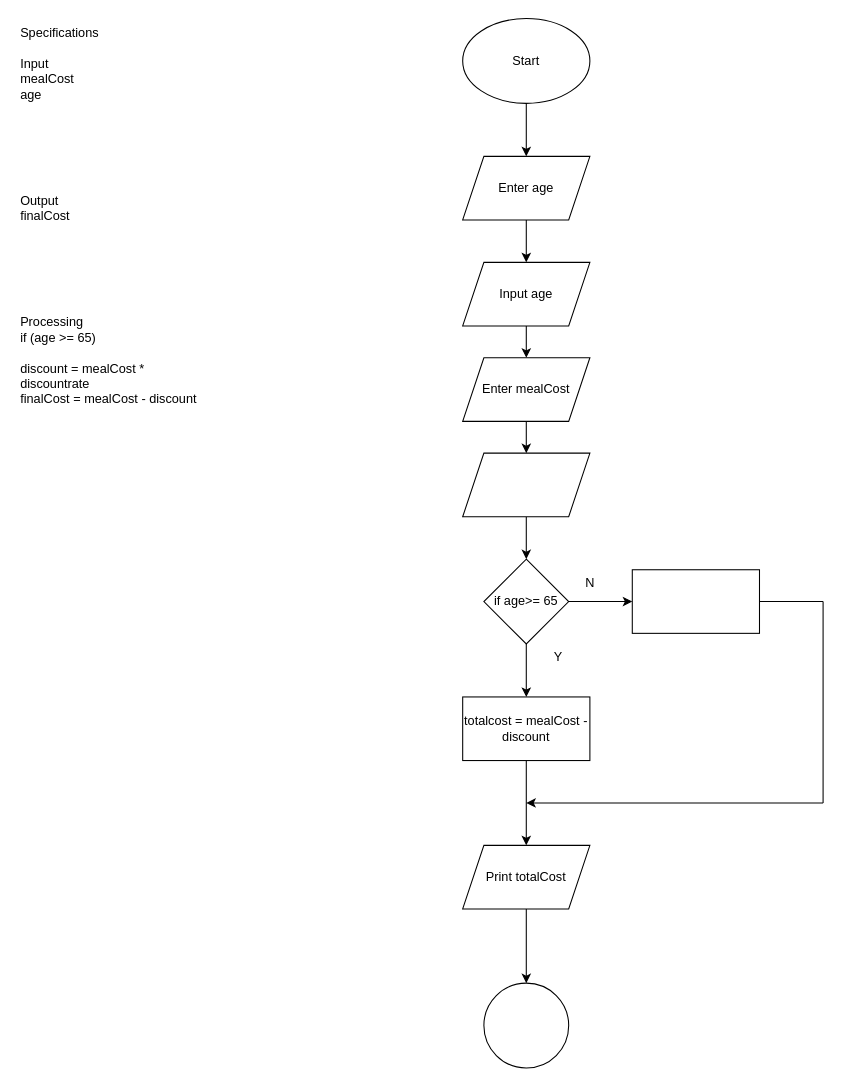
The diagram is 850 pixels wide and 1087 high, and some of its shapes have lost their labels. Each missing label, with the centre of its shape:
End: point (526, 1025)
Input mealCost: point (526, 484)
totalcost = mealCost: point (695, 601)
